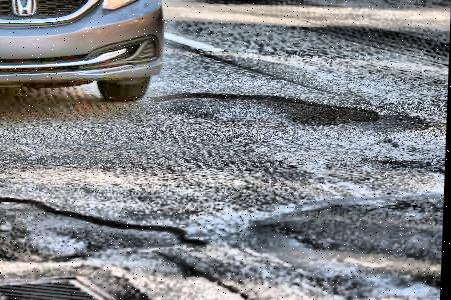pothole: (0, 193, 209, 263), (149, 89, 381, 129)
